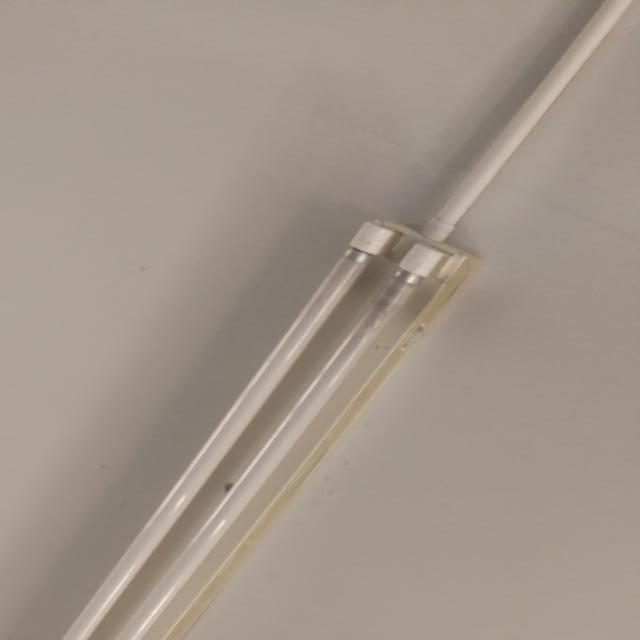fluorescent tube: (0, 188, 513, 640)
